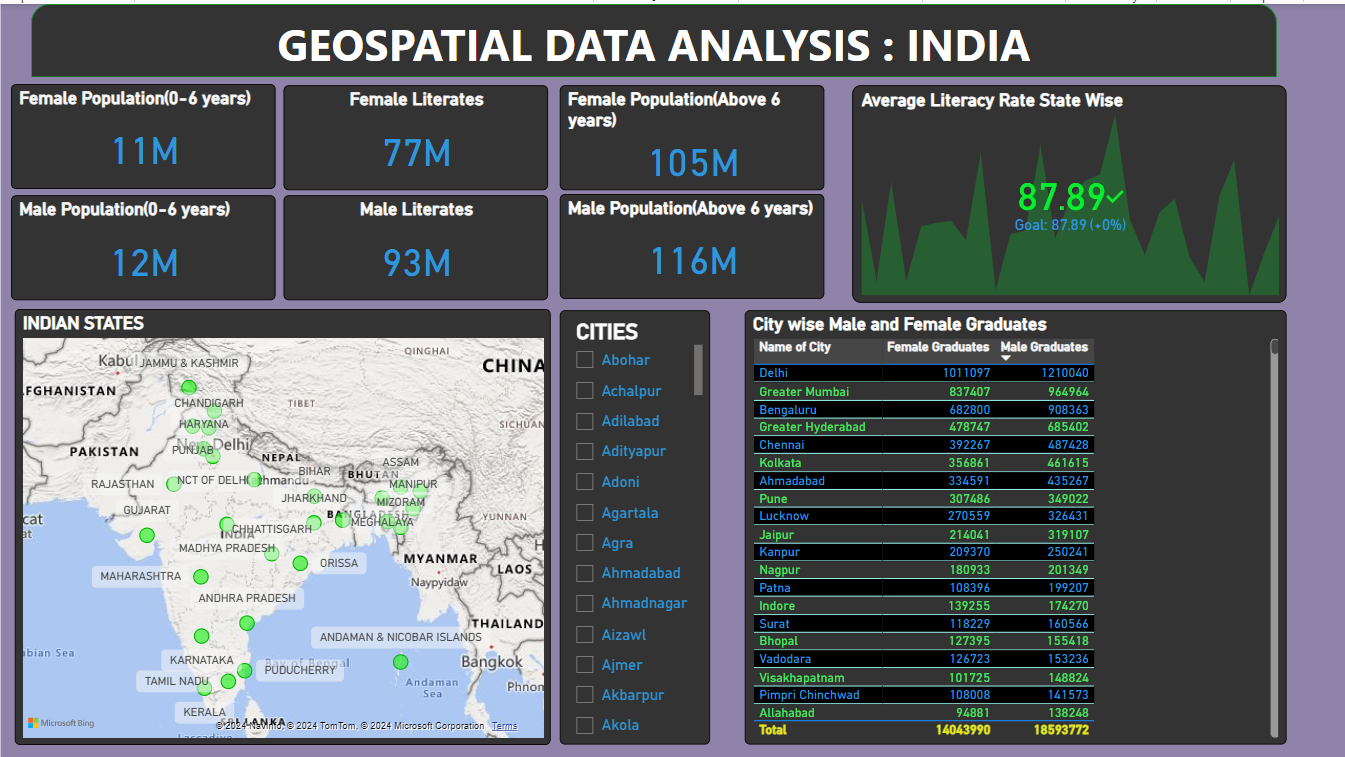

What the dashboard file says about the page in this screenshot:
{"tool":"powerbi","page":{"name":"Page 1","canvas":[1280,720],"ordinal":0},"visuals":[{"type":"map","title":"INDIAN STATES","fields":{"Category":["preprocessed_indian_cities_dataset.state_name"]},"box":[13.3,290.7,510.2,414.9],"z":0},{"type":"slicer","fields":{"Values":["preprocessed_indian_cities_dataset.name_of_city"]},"box":[531.9,291.9,143.5,413.7],"z":1000},{"type":"card","title":"Female Population(0-6 years)","fields":{"Values":["Sum(preprocessed_indian_cities_dataset.0-6_population_female)"]},"box":[9.6,76,252.1,100.1],"z":2000},{"type":"card","title":"Male Population(0-6 years)","fields":{"Values":["Sum(preprocessed_indian_cities_dataset.0-6_population_male)"]},"box":[9.6,182.1,252.1,100.1],"z":3000},{"type":"card","title":"Female Literates","fields":{"Values":["Sum(preprocessed_indian_cities_dataset.literates_female)"]},"box":[268.9,77.2,252.1,100.1],"z":4000},{"type":"card","title":"Male Literates","fields":{"Values":["Sum(preprocessed_indian_cities_dataset.literates_male)"]},"box":[268.9,182.1,252.1,100.1],"z":5000},{"type":"card","title":"Male Population(Above 6 years)","fields":{"Values":["Sum(preprocessed_indian_cities_dataset.population_male)"]},"box":[531.9,180.9,252.1,100.1],"z":6000},{"type":"card","title":"Female Population(Above 6 years)","fields":{"Values":["Sum(preprocessed_indian_cities_dataset.population_female)"]},"box":[531.9,77.2,252.1,100.1],"z":7000},{"type":"tableEx","title":"City wise Male and Female Graduates","fields":{"Values":["preprocessed_indian_cities_dataset.name_of_city","Sum(preprocessed_indian_cities_dataset.female_graduates)","Sum(preprocessed_indian_cities_dataset.male_graduates)"]},"box":[707.9,291.9,516.2,413.7],"z":8000},{"type":"kpi","title":"Average Literacy Rate State Wise","fields":{"Indicator":["preprocessed_indian_cities_dataset.Average Literacy Rate"],"TrendLine":["preprocessed_indian_cities_dataset.state_name"],"Goal":["Avg(preprocessed_indian_cities_dataset.effective_literacy_rate_total)"]},"box":[810.5,77.2,413.7,207.4],"z":9000},{"type":"shape","box":[28.9,0,1186.7,69.9],"z":10000}]}

Visuals, with their boxes in screenshot pixels (x1, y1, x2, y2), scaled from the page's 1280x720 canvas onto the 1345x757 screenshot:
"INDIAN STATES" map: [14, 306, 550, 742]
slicer - preprocessed_indian_cities_dataset.name_of_city: [559, 307, 710, 742]
"Female Population(0-6 years)" card: [10, 80, 275, 185]
"Male Population(0-6 years)" card: [10, 191, 275, 297]
"Female Literates" card: [283, 81, 547, 186]
"Male Literates" card: [283, 191, 547, 297]
"Male Population(Above 6 years)" card: [559, 190, 824, 295]
"Female Population(Above 6 years)" card: [559, 81, 824, 186]
"City wise Male and Female Graduates" tableEx: [744, 307, 1286, 742]
"Average Literacy Rate State Wise" kpi: [852, 81, 1286, 299]
shape: [30, 0, 1277, 73]
